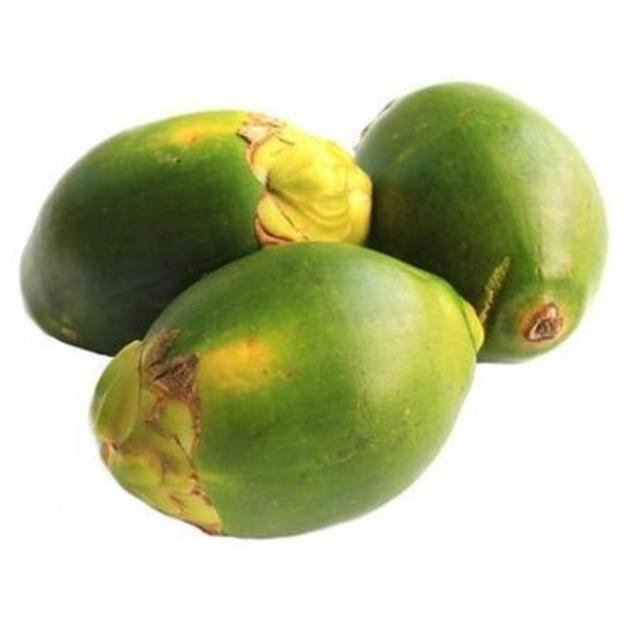good: (88, 243, 486, 540), (18, 110, 373, 358), (354, 83, 609, 365)
